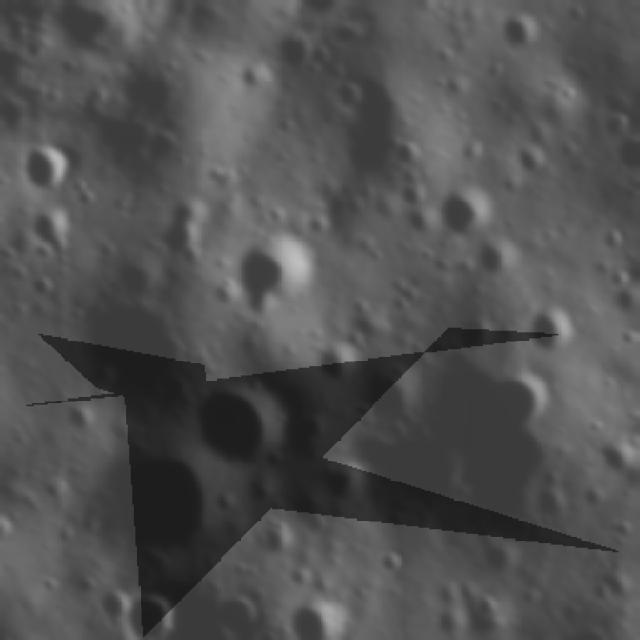crater: (359, 352, 567, 505), (75, 442, 233, 558), (78, 284, 214, 404), (180, 372, 298, 468), (232, 226, 328, 309), (432, 175, 499, 240), (491, 364, 557, 427), (515, 294, 582, 355), (20, 130, 78, 193), (120, 584, 181, 640), (292, 591, 360, 640), (168, 201, 220, 264), (214, 581, 268, 640), (22, 204, 76, 258), (278, 408, 336, 455), (482, 532, 532, 586), (290, 484, 335, 541), (474, 237, 524, 286), (322, 460, 373, 508), (496, 9, 552, 51), (532, 475, 580, 523), (594, 429, 640, 476), (268, 29, 312, 73), (314, 349, 366, 386), (508, 134, 554, 175), (452, 316, 496, 358), (333, 70, 373, 116), (97, 580, 134, 628), (607, 124, 640, 177), (257, 522, 295, 558), (560, 617, 618, 640), (387, 134, 421, 172), (394, 177, 434, 209), (28, 275, 61, 310), (607, 284, 640, 318), (377, 546, 409, 577), (605, 266, 637, 296), (0, 627, 66, 640), (0, 508, 18, 545), (629, 478, 640, 530), (257, 624, 285, 640), (637, 310, 640, 364)
